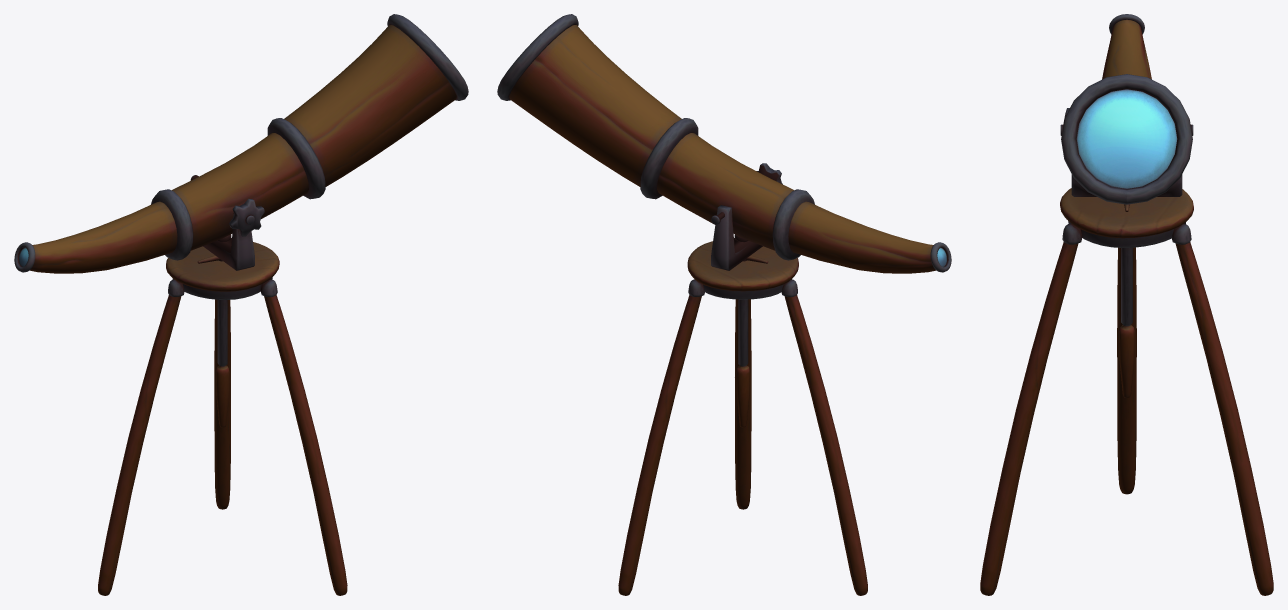
File: telescope.glb
The picture shows the model from 3 angles, left to right: view 1: azimuth 30°, elevation 25°; view 2: azimuth 150°, elevation 25°; view 3: azimuth 270°, elevation 25°; orthographic projection. The views are drawn at different scales.
Visible parts, largest first — view 1: Telescope_low, Telescope_014_low, Telescope_014_low.002, Telescope_006_low, Telescope_014_low.001, Telescope_003_low, Telescope_004_low, Telescope_009_low, Telescope_002_low, Telescope_005_low, Telescope_012_low, Telescope_010_low; view 2: Telescope_low, Telescope_014_low.001, Telescope_014_low.002, Telescope_006_low, Telescope_014_low, Telescope_003_low, Telescope_005_low, Telescope_004_low, Telescope_009_low, Telescope_002_low, Telescope_010_low; view 3: Telescope_015_low, Telescope_014_low.001, Telescope_014_low, Telescope_004_low, Telescope_006_low, Telescope_014_low.002, Telescope_low, Telescope_009_low, Telescope_010_low, Telescope_005_low.
Part boxes in pixels (x1=…): Telescope_low: x1=30, y1=25, x2=456, y2=273; Telescope_014_low: x1=264, y1=295, x2=347, y2=595; Telescope_014_low.002: x1=98, y1=295, x2=181, y2=595; Telescope_006_low: x1=166, y1=242, x2=279, y2=291; Telescope_014_low.001: x1=214, y1=299, x2=230, y2=509; Telescope_003_low: x1=267, y1=118, x2=325, y2=199; Telescope_004_low: x1=387, y1=14, x2=468, y2=100; Telescope_009_low: x1=216, y1=241, x2=229, y2=427; Telescope_002_low: x1=151, y1=189, x2=193, y2=260; Telescope_005_low: x1=203, y1=213, x2=254, y2=270; Telescope_012_low: x1=229, y1=198, x2=264, y2=236; Telescope_010_low: x1=172, y1=277, x2=272, y2=299; Telescope_low: x1=509, y1=25, x2=935, y2=273; Telescope_014_low.001: x1=618, y1=295, x2=701, y2=595; Telescope_014_low.002: x1=784, y1=295, x2=867, y2=595; Telescope_006_low: x1=687, y1=241, x2=798, y2=291; Telescope_014_low: x1=735, y1=299, x2=751, y2=509; Telescope_003_low: x1=640, y1=118, x2=698, y2=199; Telescope_005_low: x1=711, y1=205, x2=762, y2=270; Telescope_004_low: x1=497, y1=14, x2=578, y2=100; Telescope_009_low: x1=736, y1=241, x2=749, y2=427; Telescope_002_low: x1=772, y1=189, x2=814, y2=260; Telescope_010_low: x1=694, y1=279, x2=791, y2=299; Telescope_015_low: x1=1076, y1=89, x2=1177, y2=188; Telescope_014_low.001: x1=1175, y1=242, x2=1273, y2=595; Telescope_014_low: x1=980, y1=242, x2=1078, y2=595; Telescope_004_low: x1=1061, y1=74, x2=1192, y2=204; Telescope_006_low: x1=1060, y1=188, x2=1193, y2=238; Telescope_014_low.002: x1=1117, y1=247, x2=1136, y2=494; Telescope_low: x1=1102, y1=19, x2=1151, y2=79; Telescope_009_low: x1=1119, y1=247, x2=1134, y2=397; Telescope_010_low: x1=1068, y1=221, x2=1185, y2=247; Telescope_005_low: x1=1071, y1=174, x2=1182, y2=196.
Size of the model in its own units: 1880 by 2057 by 925.
1 material, 1 textured.
